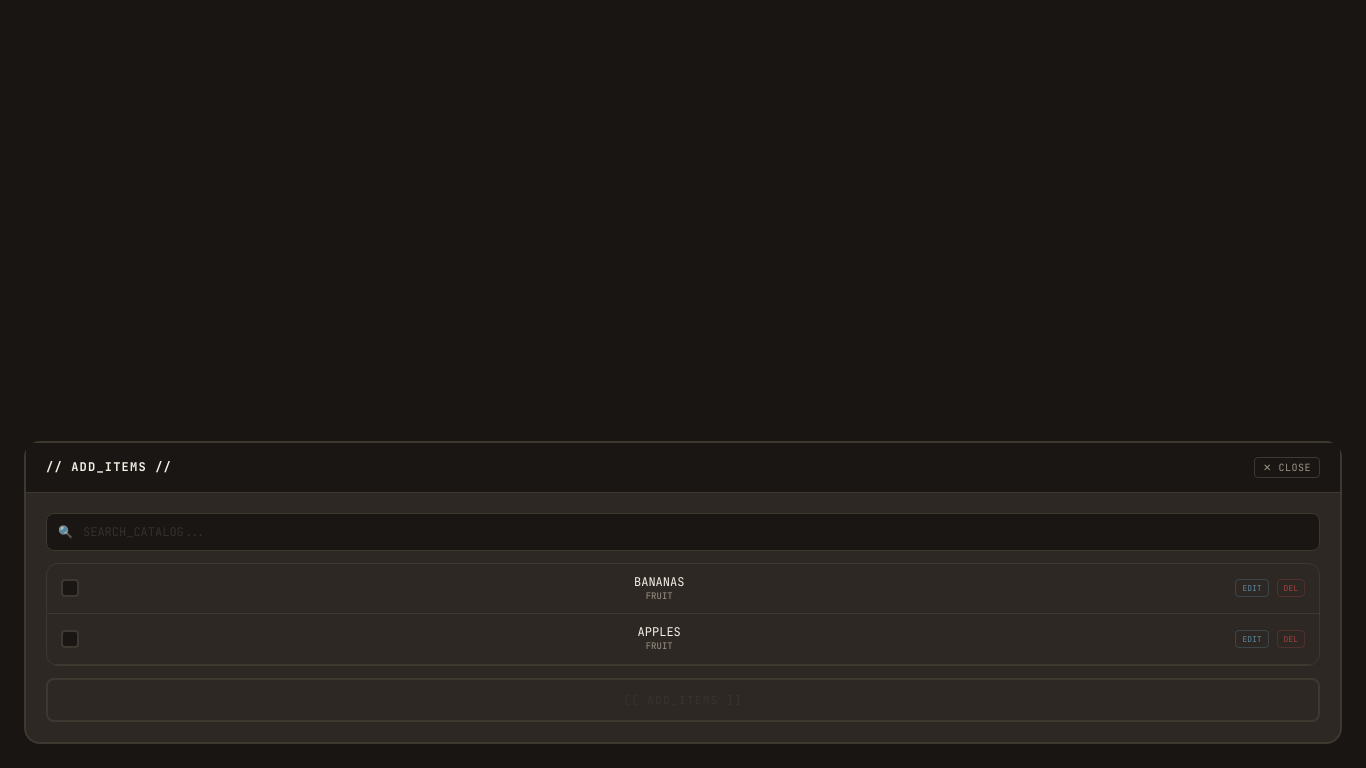
Test case: AddItemsModal › filters items based on search input
The width and height of the screenshot is (1366, 768).
In the field with placeholder "SEARCH_CATALOG...": (683, 532) [46,512,1320,550], type "BAN"
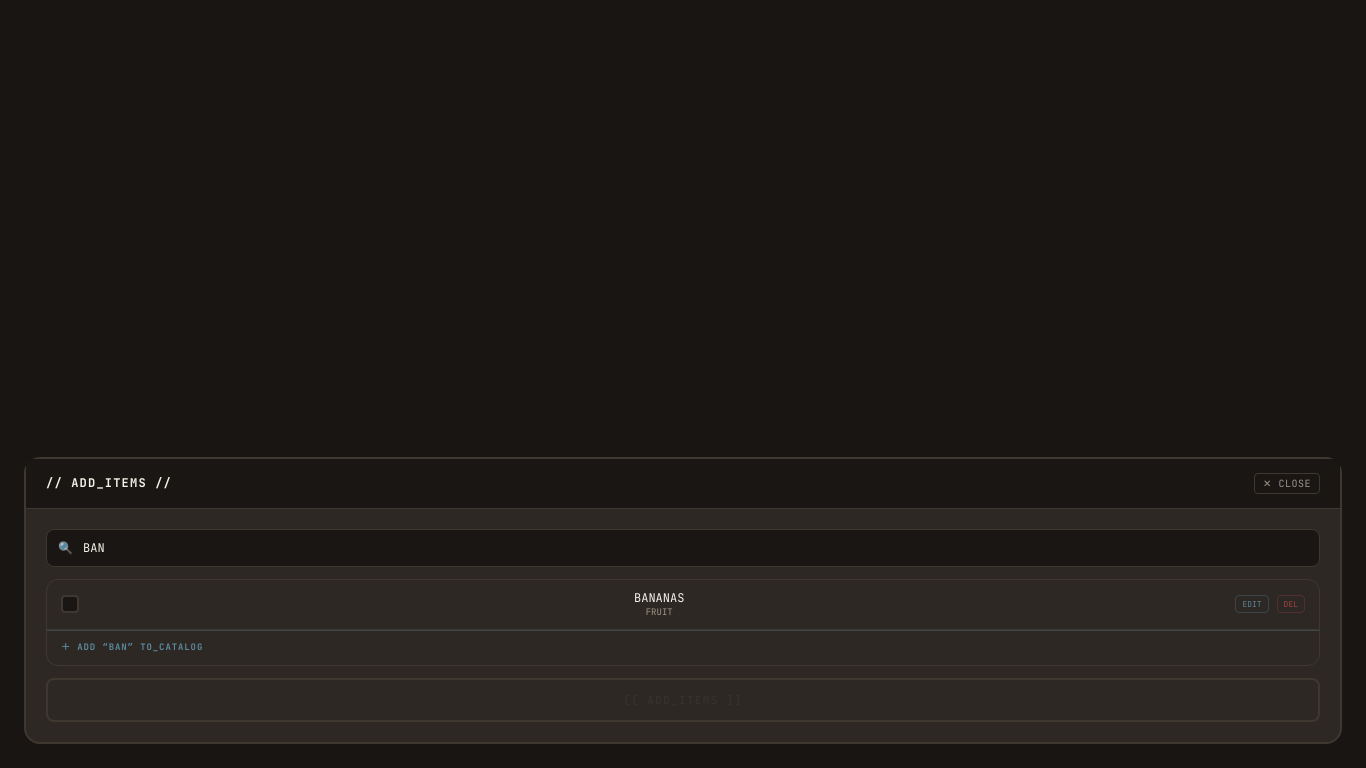
Check: the text "BANANAS" is shown, box [634,590,684,606]
Check: the button "APPLES" is gone
